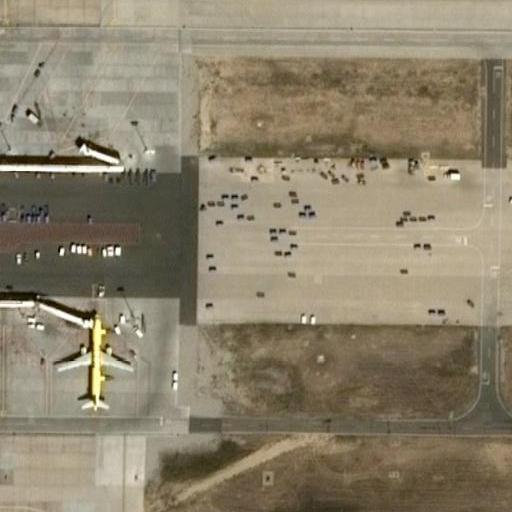Aircraft: (50, 308, 136, 413)
